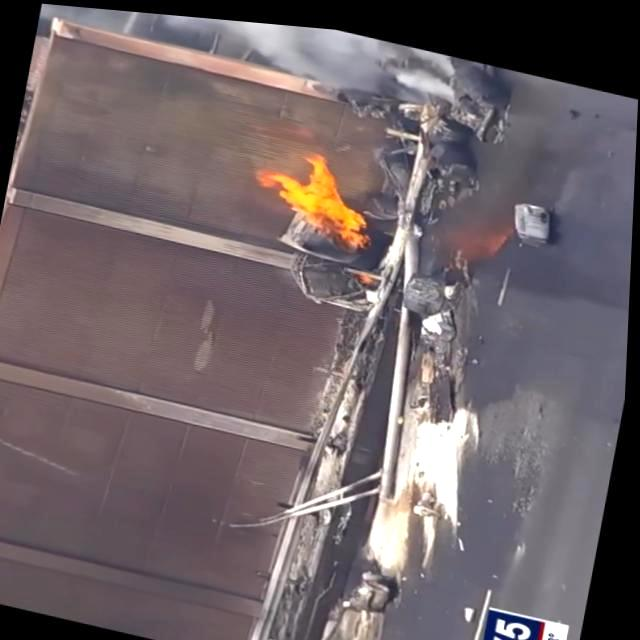fire: (245, 137, 382, 243)
